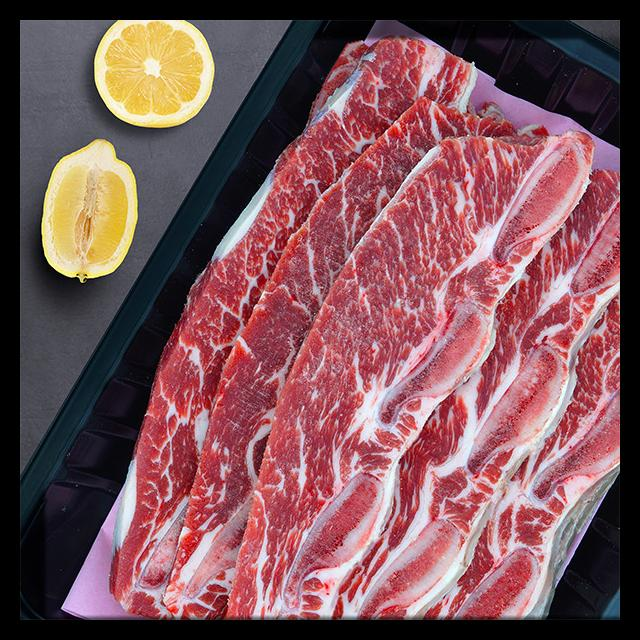beef: (277, 127, 570, 592)
